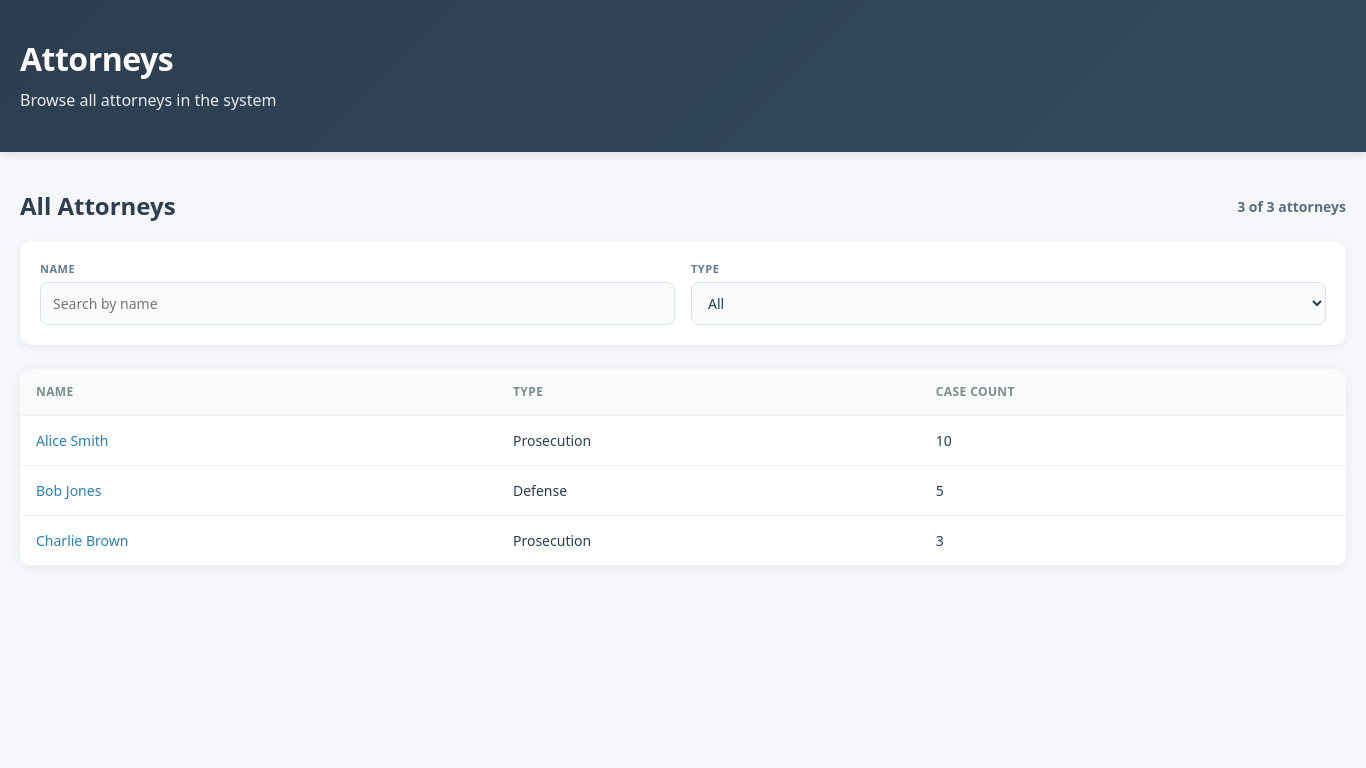
Test: AttorneysList › filters by type
Expected: the link "Alice Smith" is shown, [36,431,108,450]
Select "Defense" in the dropdown labelled "Type" at coordinates (1008, 303), box [691,282,1326,325]
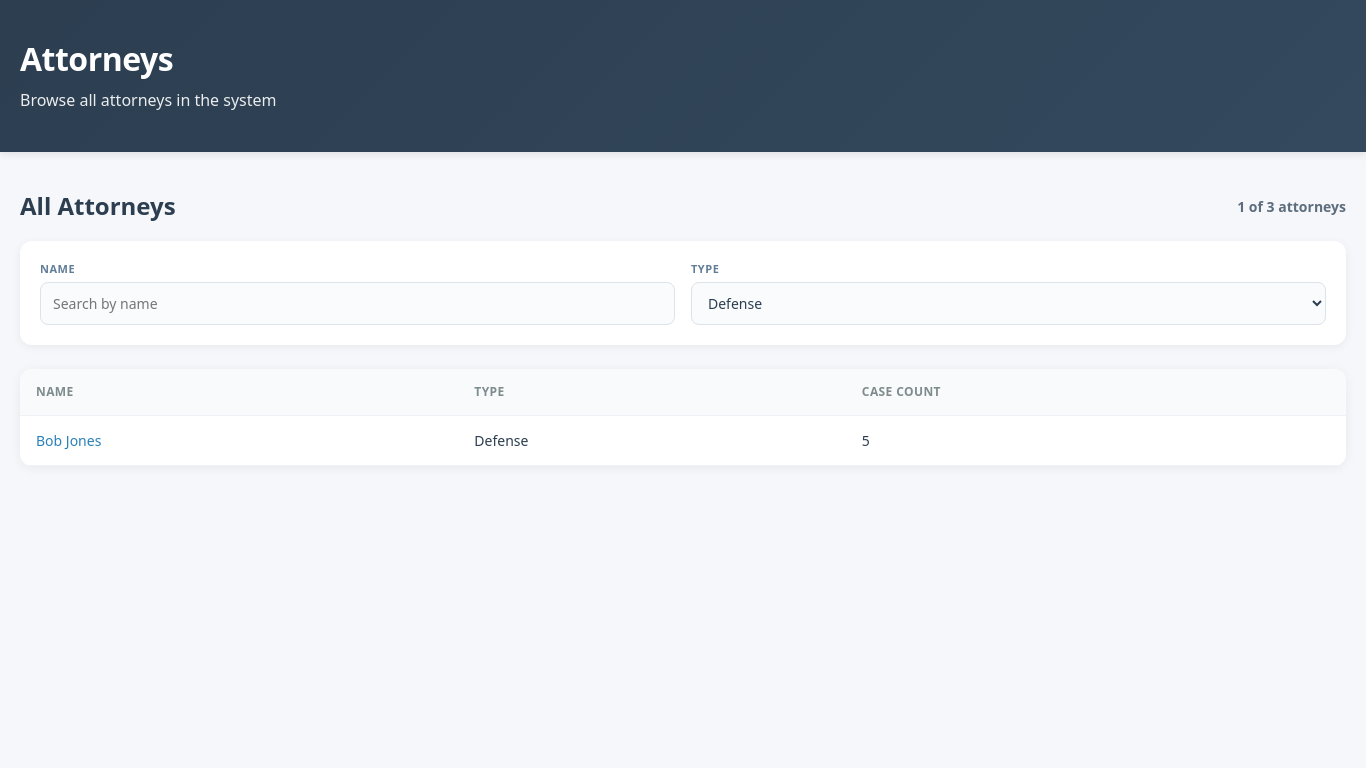
Expected: the link "Bob Jones" is shown, [36,431,101,450]
Expected: the link "Alice Smith" is gone
